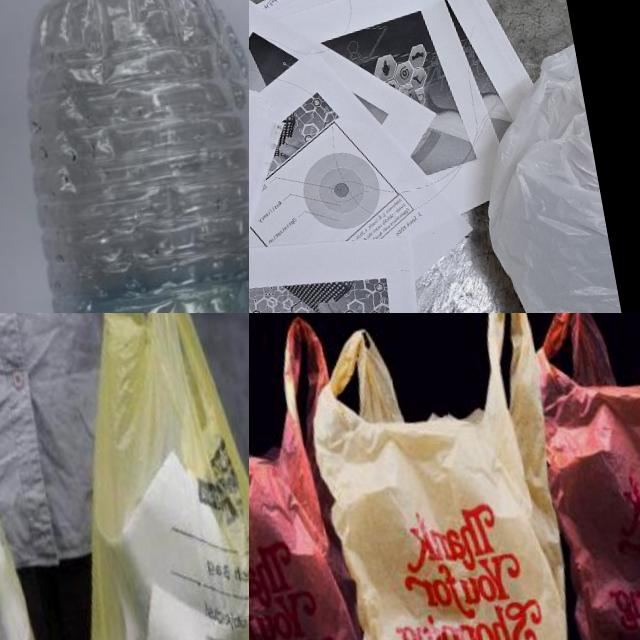garrafa plástica: (0, 0, 249, 313)
papel: (249, 0, 574, 313)
sacola plástica: (293, 313, 623, 640), (0, 313, 249, 640), (249, 323, 399, 640), (456, 44, 625, 313), (515, 313, 640, 640), (0, 313, 52, 640)
